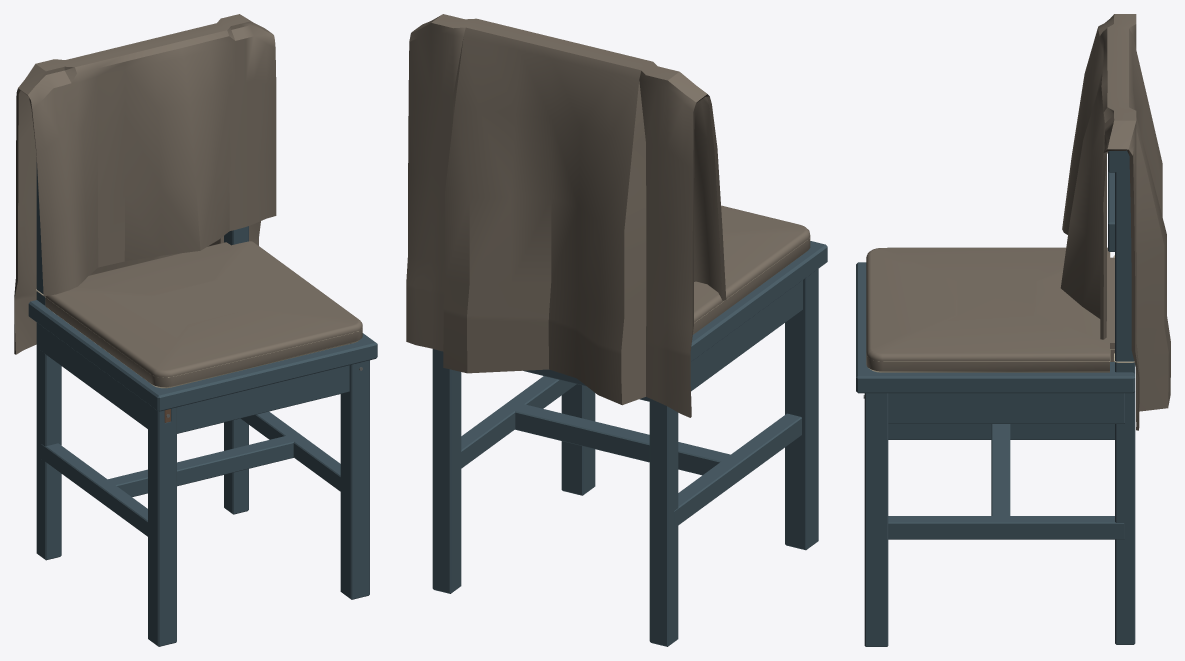
File: kitchen-chair-blue-8bf426bd6522.glb
3 views of the same model, side by side, from view 1: azimuth 30°, elevation 25°; view 2: azimuth 150°, elevation 25°; view 3: azimuth 270°, elevation 25° (orthographic). The views are drawn at different scales.
Visible parts, largest first — view 1: cover-cloth, enamel-blue, fabric, paper; view 2: cover-cloth, enamel-blue, fabric; view 3: cover-cloth, enamel-blue, fabric, paper.
Boxes of the visible parts, x1,y1,x2,y2 form: cover-cloth: (14,14,362,387); enamel-blue: (28,162,377,646); fabric: (14,88,39,354); paper: (36,289,358,388); cover-cloth: (406,14,810,417); enamel-blue: (432,241,827,646); fabric: (690,94,726,417); cover-cloth: (866,14,1170,427); enamel-blue: (856,150,1135,646); fabric: (1100,149,1139,430); paper: (867,252,1134,372).
Size of the model in its own units: 0.4473 by 0.85 by 0.4623.
